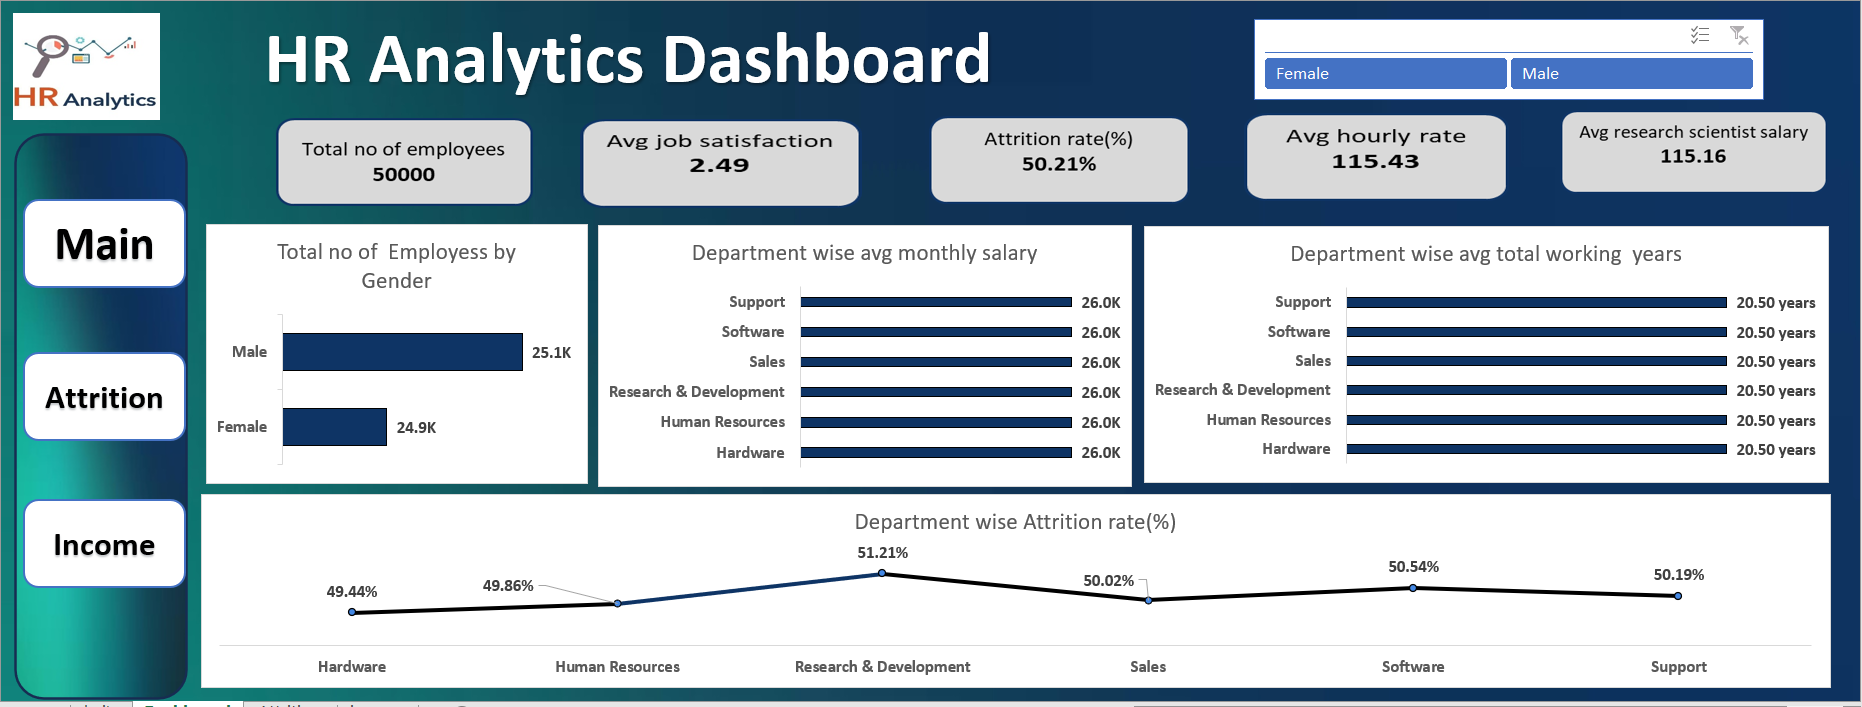

This screenshot's page, from the dashboard's own definition file:
{"tool":"powerbi","page":{"name":"Dash board","canvas":[1280,720],"ordinal":0},"visuals":[{"type":"shape","box":[104.8,0,789.3,97.6],"z":0},{"type":"card","title":"Total no of Employees","fields":{"Values":["HR_1.Total Employees"]},"box":[97.6,110.8,185.2,91.7],"z":0,"group":"g1"},{"type":"card","title":"Attrition rate (%)","fields":{"Values":["HR_1.Attrition rate (%)"]},"box":[292.2,107.2,185.2,98.8],"z":1000,"group":"g1"},{"type":"shape","box":[7.1,127.4,90.5,571.4],"z":1000},{"type":"group","id":"g1","title":"Group 1","box":[97.6,106,1169.1,100],"z":2000},{"type":"card","title":"Avg monthly income","fields":{"Values":["Avg(HR_2.MonthlyIncome)"]},"box":[489.3,107.2,185.2,98.8],"z":2000,"group":"g1"},{"type":"card","title":"Avg of Job sastifaction","fields":{"Values":["Avg(HR_1.JobSatisfaction)"]},"box":[686.3,107.2,185.2,98.8],"z":3000,"group":"g1"},{"type":"image","title":"Income","box":[17.9,538.1,69,67.9],"z":3000},{"type":"card","title":"Attrition count","fields":{"Values":["HR_1.Attrition_count"]},"box":[883.3,107.2,185.2,98.8],"z":4000,"group":"g1"},{"type":"barChart","fields":{"Category":["HR_1.Department","HR_1.JobRole"],"Y":["Avg(HR_2.MonthlyIncome)"]},"box":[97.6,219,595.2,272.6],"z":4000},{"type":"donutChart","fields":{"Category":["HR_1.Gender"],"Y":["HR_1.Total No of Employees"]},"box":[828.6,503.6,438.1,203.6],"z":4000,"group":"g2"},{"type":"card","title":"Avg monthly income for  research scientist(male)","fields":{"Values":["Avg(HR_1.HourlyRate)"]},"box":[1081.4,106,185.2,98.8],"z":5000,"group":"g1"},{"type":"image","title":"Attrition","box":[15.5,356,69,90.5],"z":5000},{"type":"card","fields":{"Values":["HR_1.Total No of Employees"]},"box":[1015.9,589.3,61.2,58.3],"z":5000,"group":"g2"},{"type":"clusteredBarChart","fields":{"Category":["HR_1.Department","HR_1.JobRole"],"Y":["Avg(HR_2.TotalWorkingYears)"]},"box":[706,219,560.7,272.6],"z":6000},{"type":"image","title":"Employee","box":[20.2,219,64.3,84.5],"z":7000},{"type":"lineChart","fields":{"Category":["HR_1.Department","HR_1.JobRole"],"Y":["HR_1.Attrition rate (%)"]},"box":[97.6,503.6,722.6,203.6],"z":8000},{"type":"group","id":"g2","title":"Group 2","box":[828.6,503.6,438.1,203.6],"z":9000},{"type":"slicer","fields":{"Values":["Features.Features"]},"box":[890.6,19.4,320.2,76.2],"z":10000},{"type":"image","box":[20.2,11.9,97.6,95.2],"z":11000}]}

Visuals, with their boxes on the page's 1280x720 design canvas (x1, y1, x2, y2). These are canvas units, not pixel positions in the 1862x707 screenshot, which may show the page scaled, cropped or inside an application window:
shape: (x1=105, y1=0, x2=894, y2=98)
"Total no of Employees" card: (x1=98, y1=111, x2=283, y2=202)
"Attrition rate (%)" card: (x1=292, y1=107, x2=477, y2=206)
shape: (x1=7, y1=127, x2=98, y2=699)
"Group 1" group: (x1=98, y1=106, x2=1267, y2=206)
"Avg monthly income" card: (x1=489, y1=107, x2=674, y2=206)
"Avg of Job sastifaction" card: (x1=686, y1=107, x2=872, y2=206)
"Income" image: (x1=18, y1=538, x2=87, y2=606)
"Attrition count" card: (x1=883, y1=107, x2=1068, y2=206)
barChart - HR_1.Department x HR_1.JobRole: (x1=98, y1=219, x2=693, y2=492)
donutChart - HR_1.Gender x HR_1.Total No of Employees: (x1=829, y1=504, x2=1267, y2=707)
"Avg monthly income for  research scientist(male)" card: (x1=1081, y1=106, x2=1267, y2=205)
"Attrition" image: (x1=16, y1=356, x2=84, y2=446)
card - HR_1.Total No of Employees: (x1=1016, y1=589, x2=1077, y2=648)
clusteredBarChart - HR_1.Department x HR_1.JobRole: (x1=706, y1=219, x2=1267, y2=492)
"Employee" image: (x1=20, y1=219, x2=84, y2=304)
lineChart - HR_1.Department x HR_1.JobRole: (x1=98, y1=504, x2=820, y2=707)
"Group 2" group: (x1=829, y1=504, x2=1267, y2=707)
slicer - Features.Features: (x1=891, y1=19, x2=1211, y2=96)
image: (x1=20, y1=12, x2=118, y2=107)
